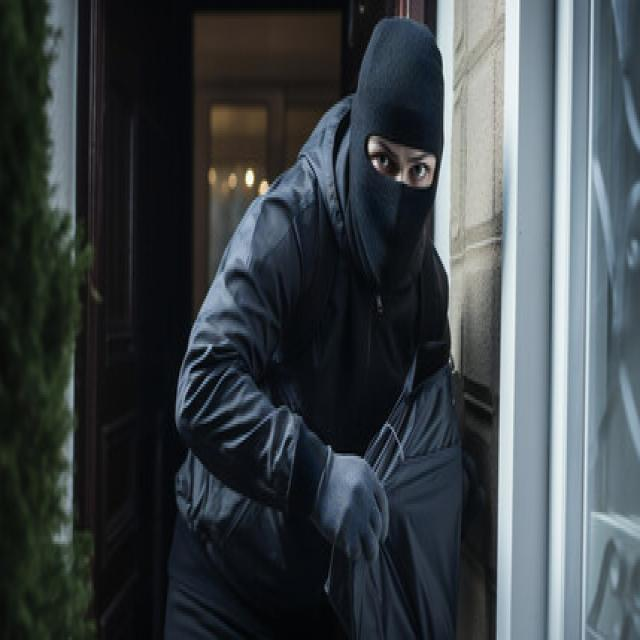person-with-mask: (152, 10, 512, 640)
